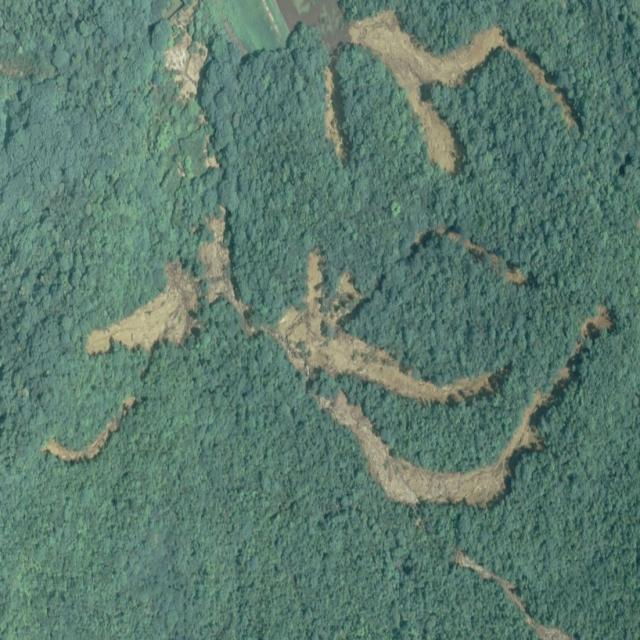landslide: (261, 249, 506, 404), (348, 9, 576, 172), (317, 365, 570, 506), (86, 261, 196, 354), (202, 226, 231, 298), (577, 307, 612, 353)
